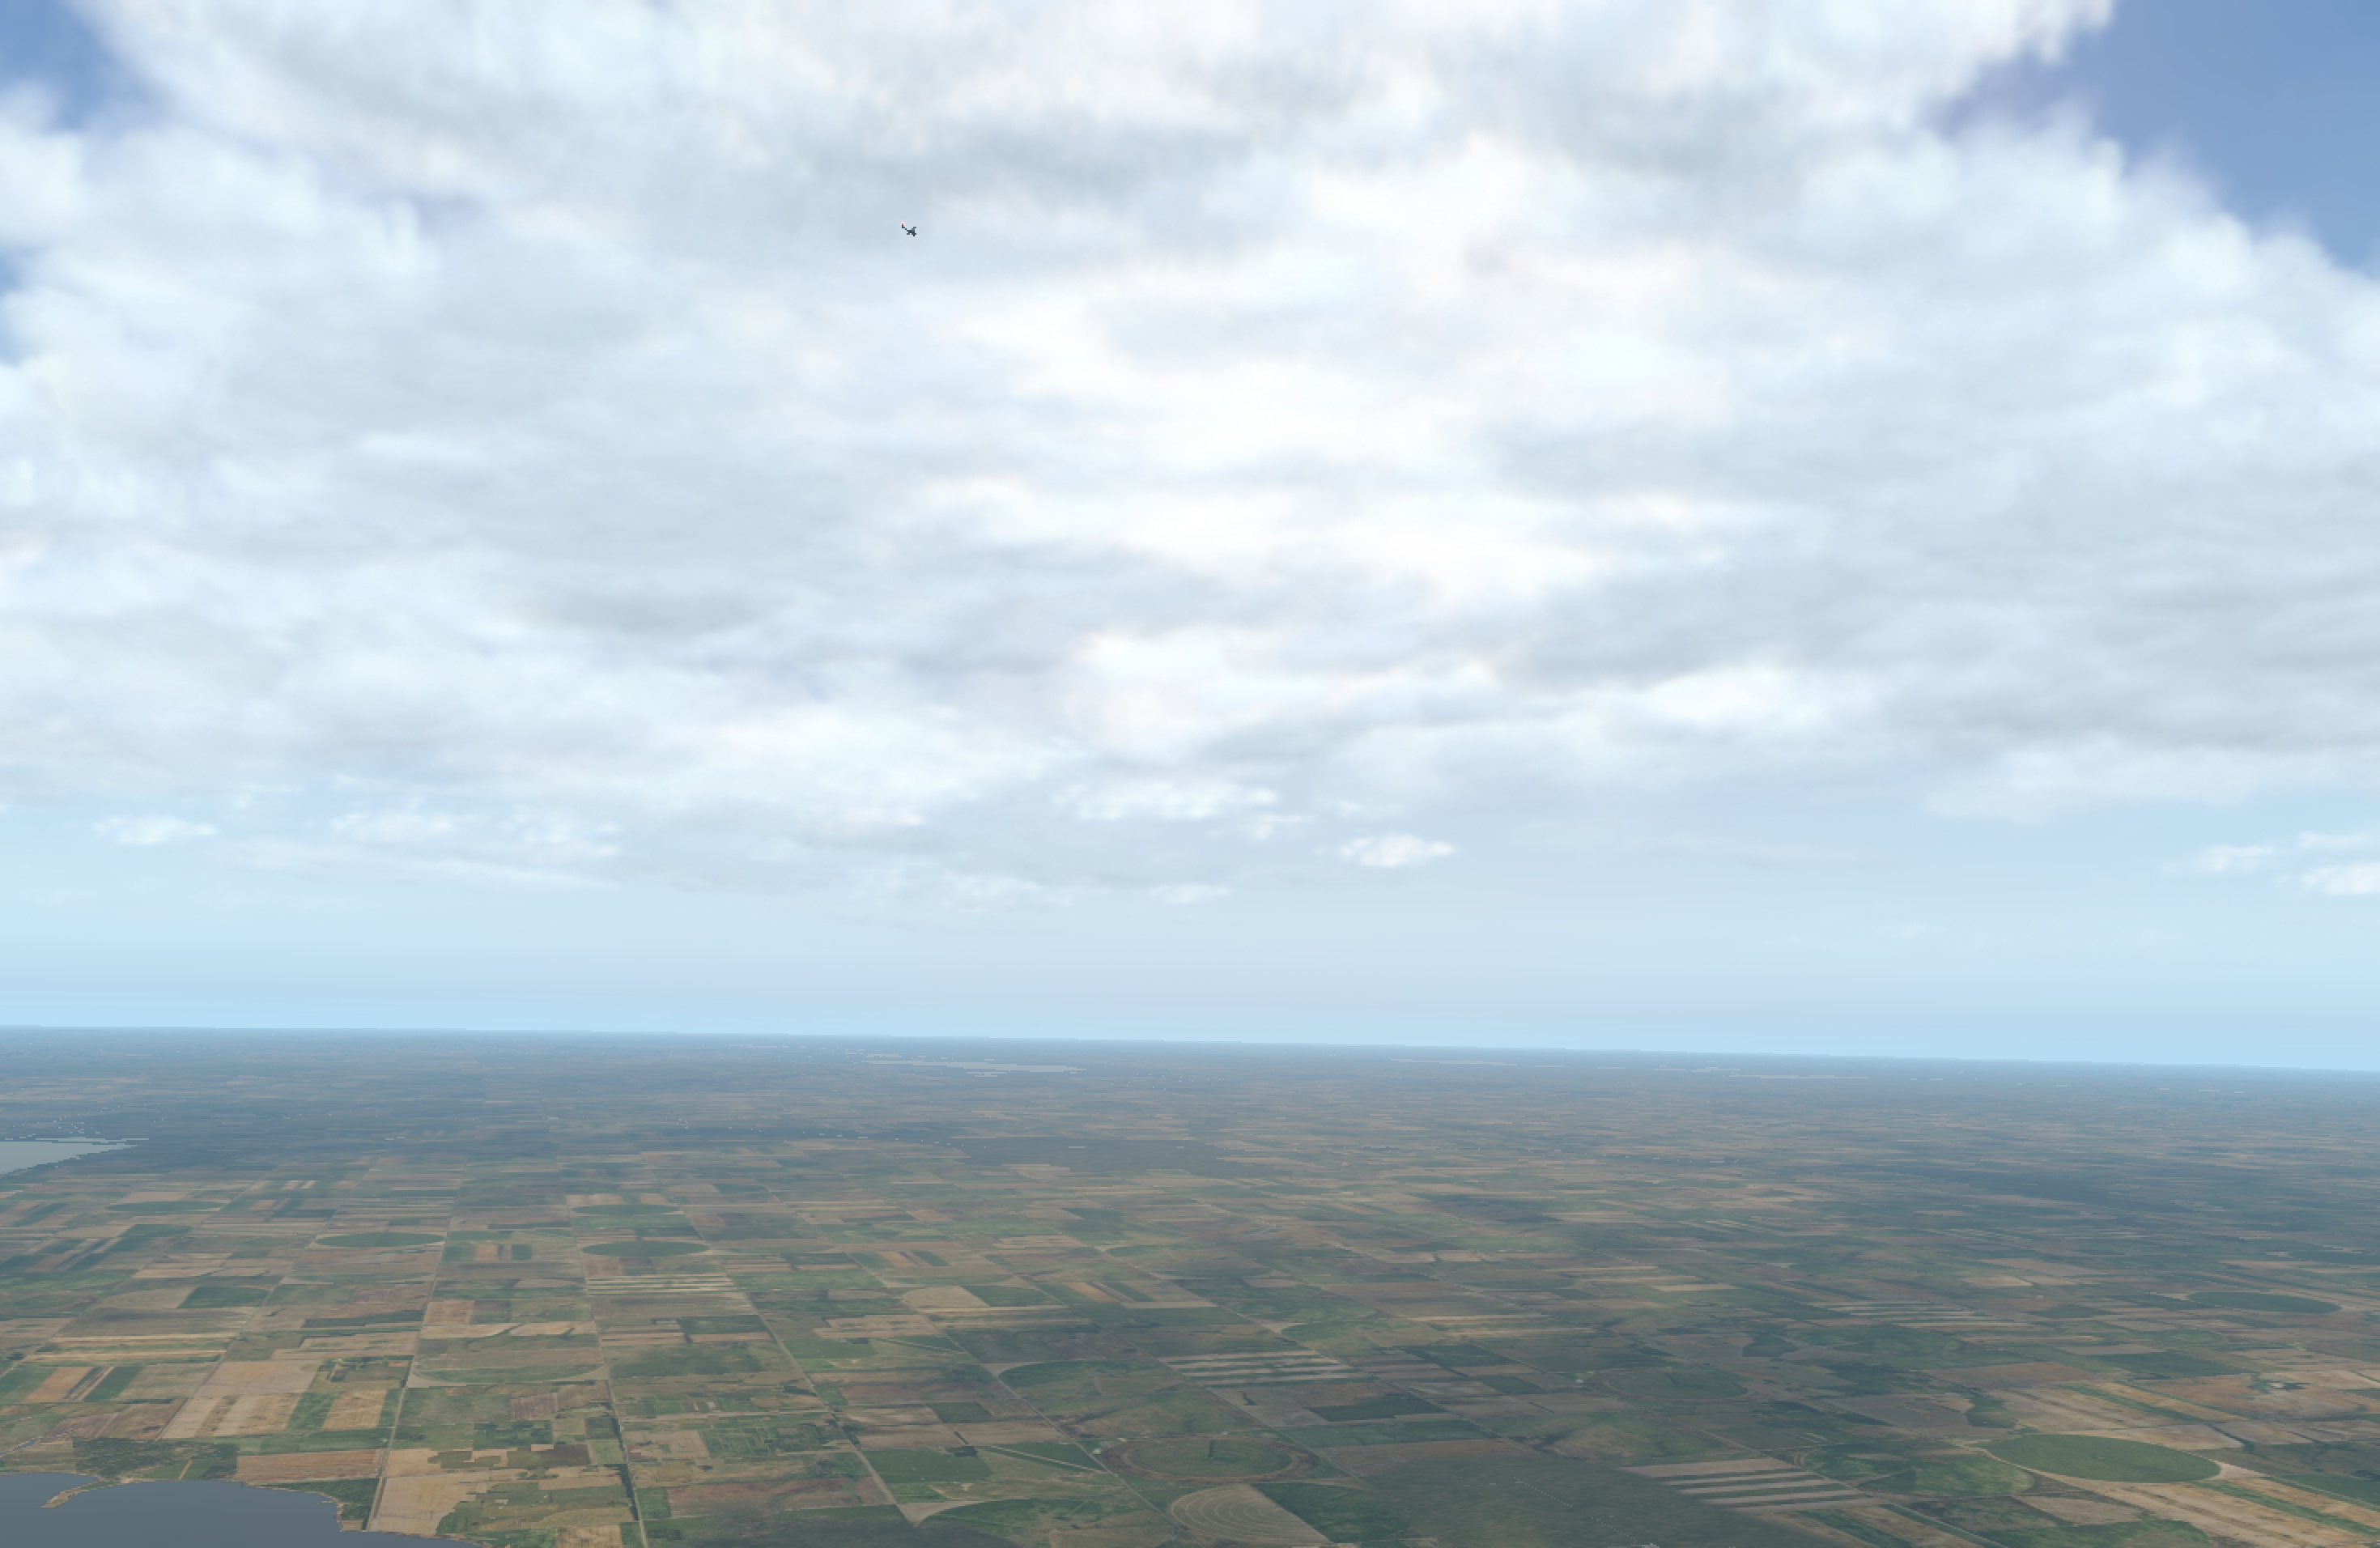aircraft: (904, 229, 919, 236)
